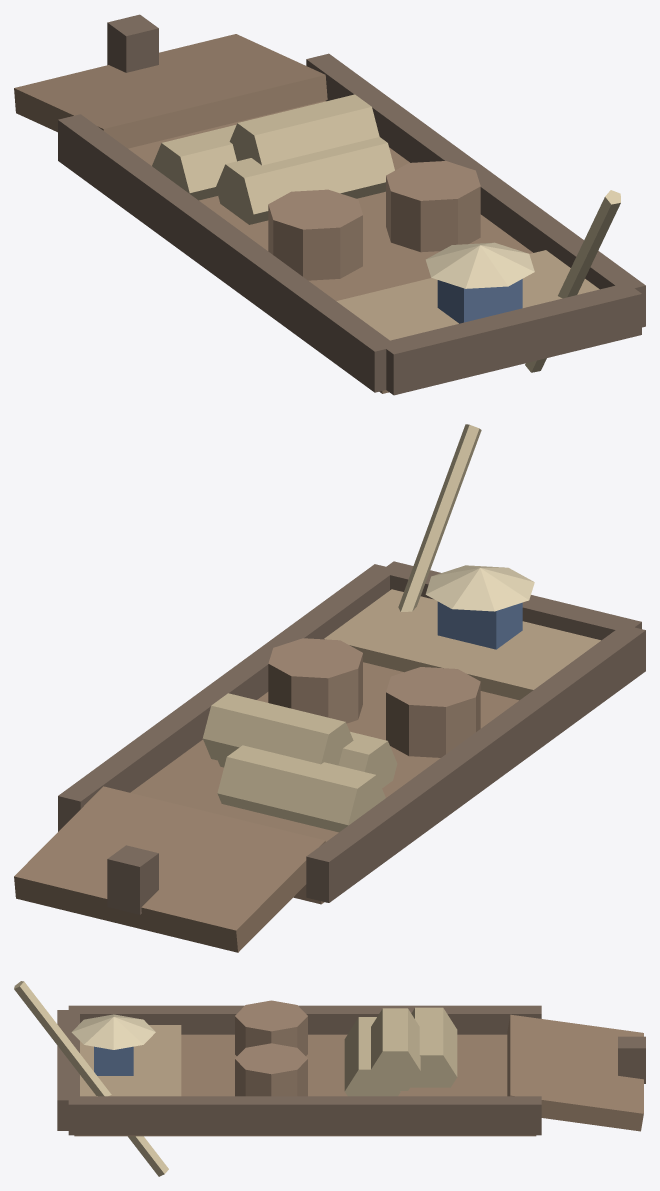
Rendered from vehicle_barge.glb.
3 views of the same model, one above another, from view 1: azimuth 30°, elevation 25°; view 2: azimuth 150°, elevation 25°; view 3: azimuth 270°, elevation 25° (orthographic). The views are drawn at different scales.
Visible parts, largest first — view 1: Gunwale_Left, Bow_Deck, Stern_Transom, Gunwale_Right, RiceSack_1, Hull_Bottom, Barrel_2, Barrel_1, RiceSack_3, Stern_Deck, RiceSack_2, Boatman_Hat (+3 smaller); view 2: Bow_Deck, Gunwale_Left, Stern_Deck, Gunwale_Right, RiceSack_2, Hull_Bottom, Barrel_1, RiceSack_3, Barrel_2, Boatman_Hat, Stern_Transom, Pole_Sao (+3 smaller); view 3: Gunwale_Right, Bow_Deck, Hull_Bottom, Gunwale_Left, Stern_Deck, RiceSack_3, Barrel_2, Barrel_1, RiceSack_2, Pole_Sao, RiceSack_1, Boatman_Hat (+3 smaller).
Boxes of the visible parts, x1=… form: Gunwale_Left: x1=58, y1=114, x2=396, y2=392; Bow_Deck: x1=14, y1=34, x2=327, y2=148; Stern_Transom: x1=379, y1=283, x2=641, y2=395; Gunwale_Right: x1=306, y1=53, x2=645, y2=327; RiceSack_1: x1=216, y1=137, x2=394, y2=224; Hull_Bottom: x1=128, y1=100, x2=532, y2=393; Barrel_2: x1=386, y1=161, x2=480, y2=252; Barrel_1: x1=268, y1=189, x2=362, y2=280; RiceSack_3: x1=229, y1=94, x2=379, y2=165; Stern_Deck: x1=336, y1=250, x2=599, y2=340; RiceSack_2: x1=152, y1=124, x2=236, y2=200; Boatman_Hat: x1=425, y1=242, x2=534, y2=288; Bow_Deck: x1=14, y1=786, x2=325, y2=952; Gunwale_Left: x1=306, y1=624, x2=645, y2=902; Stern_Deck: x1=324, y1=589, x2=600, y2=700; Gunwale_Right: x1=58, y1=564, x2=396, y2=831; RiceSack_2: x1=217, y1=745, x2=385, y2=832; Hull_Bottom: x1=130, y1=662, x2=518, y2=904; Barrel_1: x1=386, y1=667, x2=480, y2=757; RiceSack_3: x1=202, y1=693, x2=353, y2=765; Barrel_2: x1=268, y1=638, x2=362, y2=723; Boatman_Hat: x1=425, y1=565, x2=534, y2=611; Stern_Transom: x1=379, y1=561, x2=641, y2=640; Pole_Sao: x1=398, y1=424, x2=481, y2=611; Gunwale_Right: x1=68, y1=1096, x2=541, y2=1135; Bow_Deck: x1=507, y1=1014, x2=643, y2=1131; Hull_Bottom: x1=74, y1=1034, x2=536, y2=1136; Gunwale_Left: x1=68, y1=1005, x2=541, y2=1034; Stern_Deck: x1=80, y1=1025, x2=181, y2=1096; RiceSack_3: x1=370, y1=1008, x2=420, y2=1090; Barrel_2: x1=235, y1=1043, x2=307, y2=1096; Barrel_1: x1=235, y1=1000, x2=307, y2=1055; RiceSack_2: x1=410, y1=1007, x2=457, y2=1087; Pole_Sao: x1=14, y1=981, x2=168, y2=1176; RiceSack_1: x1=344, y1=1017, x2=400, y2=1096; Boatman_Hat: x1=71, y1=1014, x2=155, y2=1049.
Bounding box in the file's own units: 0.415 × 0.3687 × 1.12.
